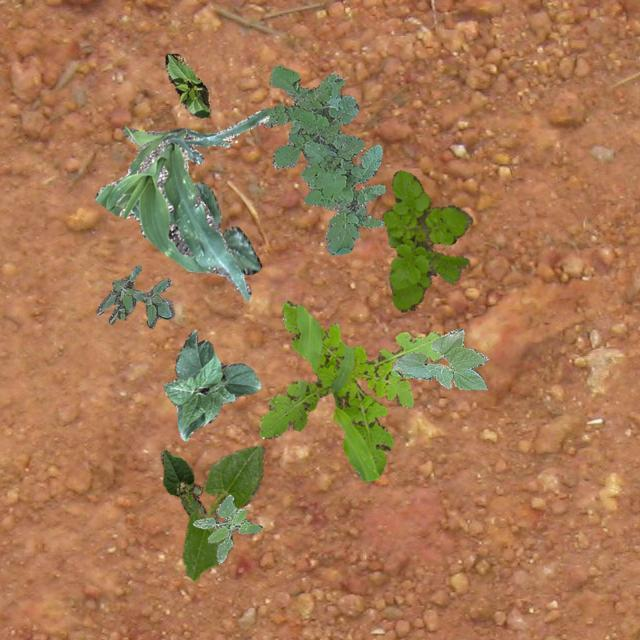crop: (94, 110, 268, 300), (182, 444, 266, 580), (162, 328, 260, 439), (192, 182, 260, 274), (389, 328, 486, 388), (160, 448, 206, 516), (163, 52, 210, 118)
weed: (258, 300, 441, 480), (258, 65, 384, 254), (381, 170, 472, 310), (95, 264, 173, 328), (192, 494, 262, 562)
